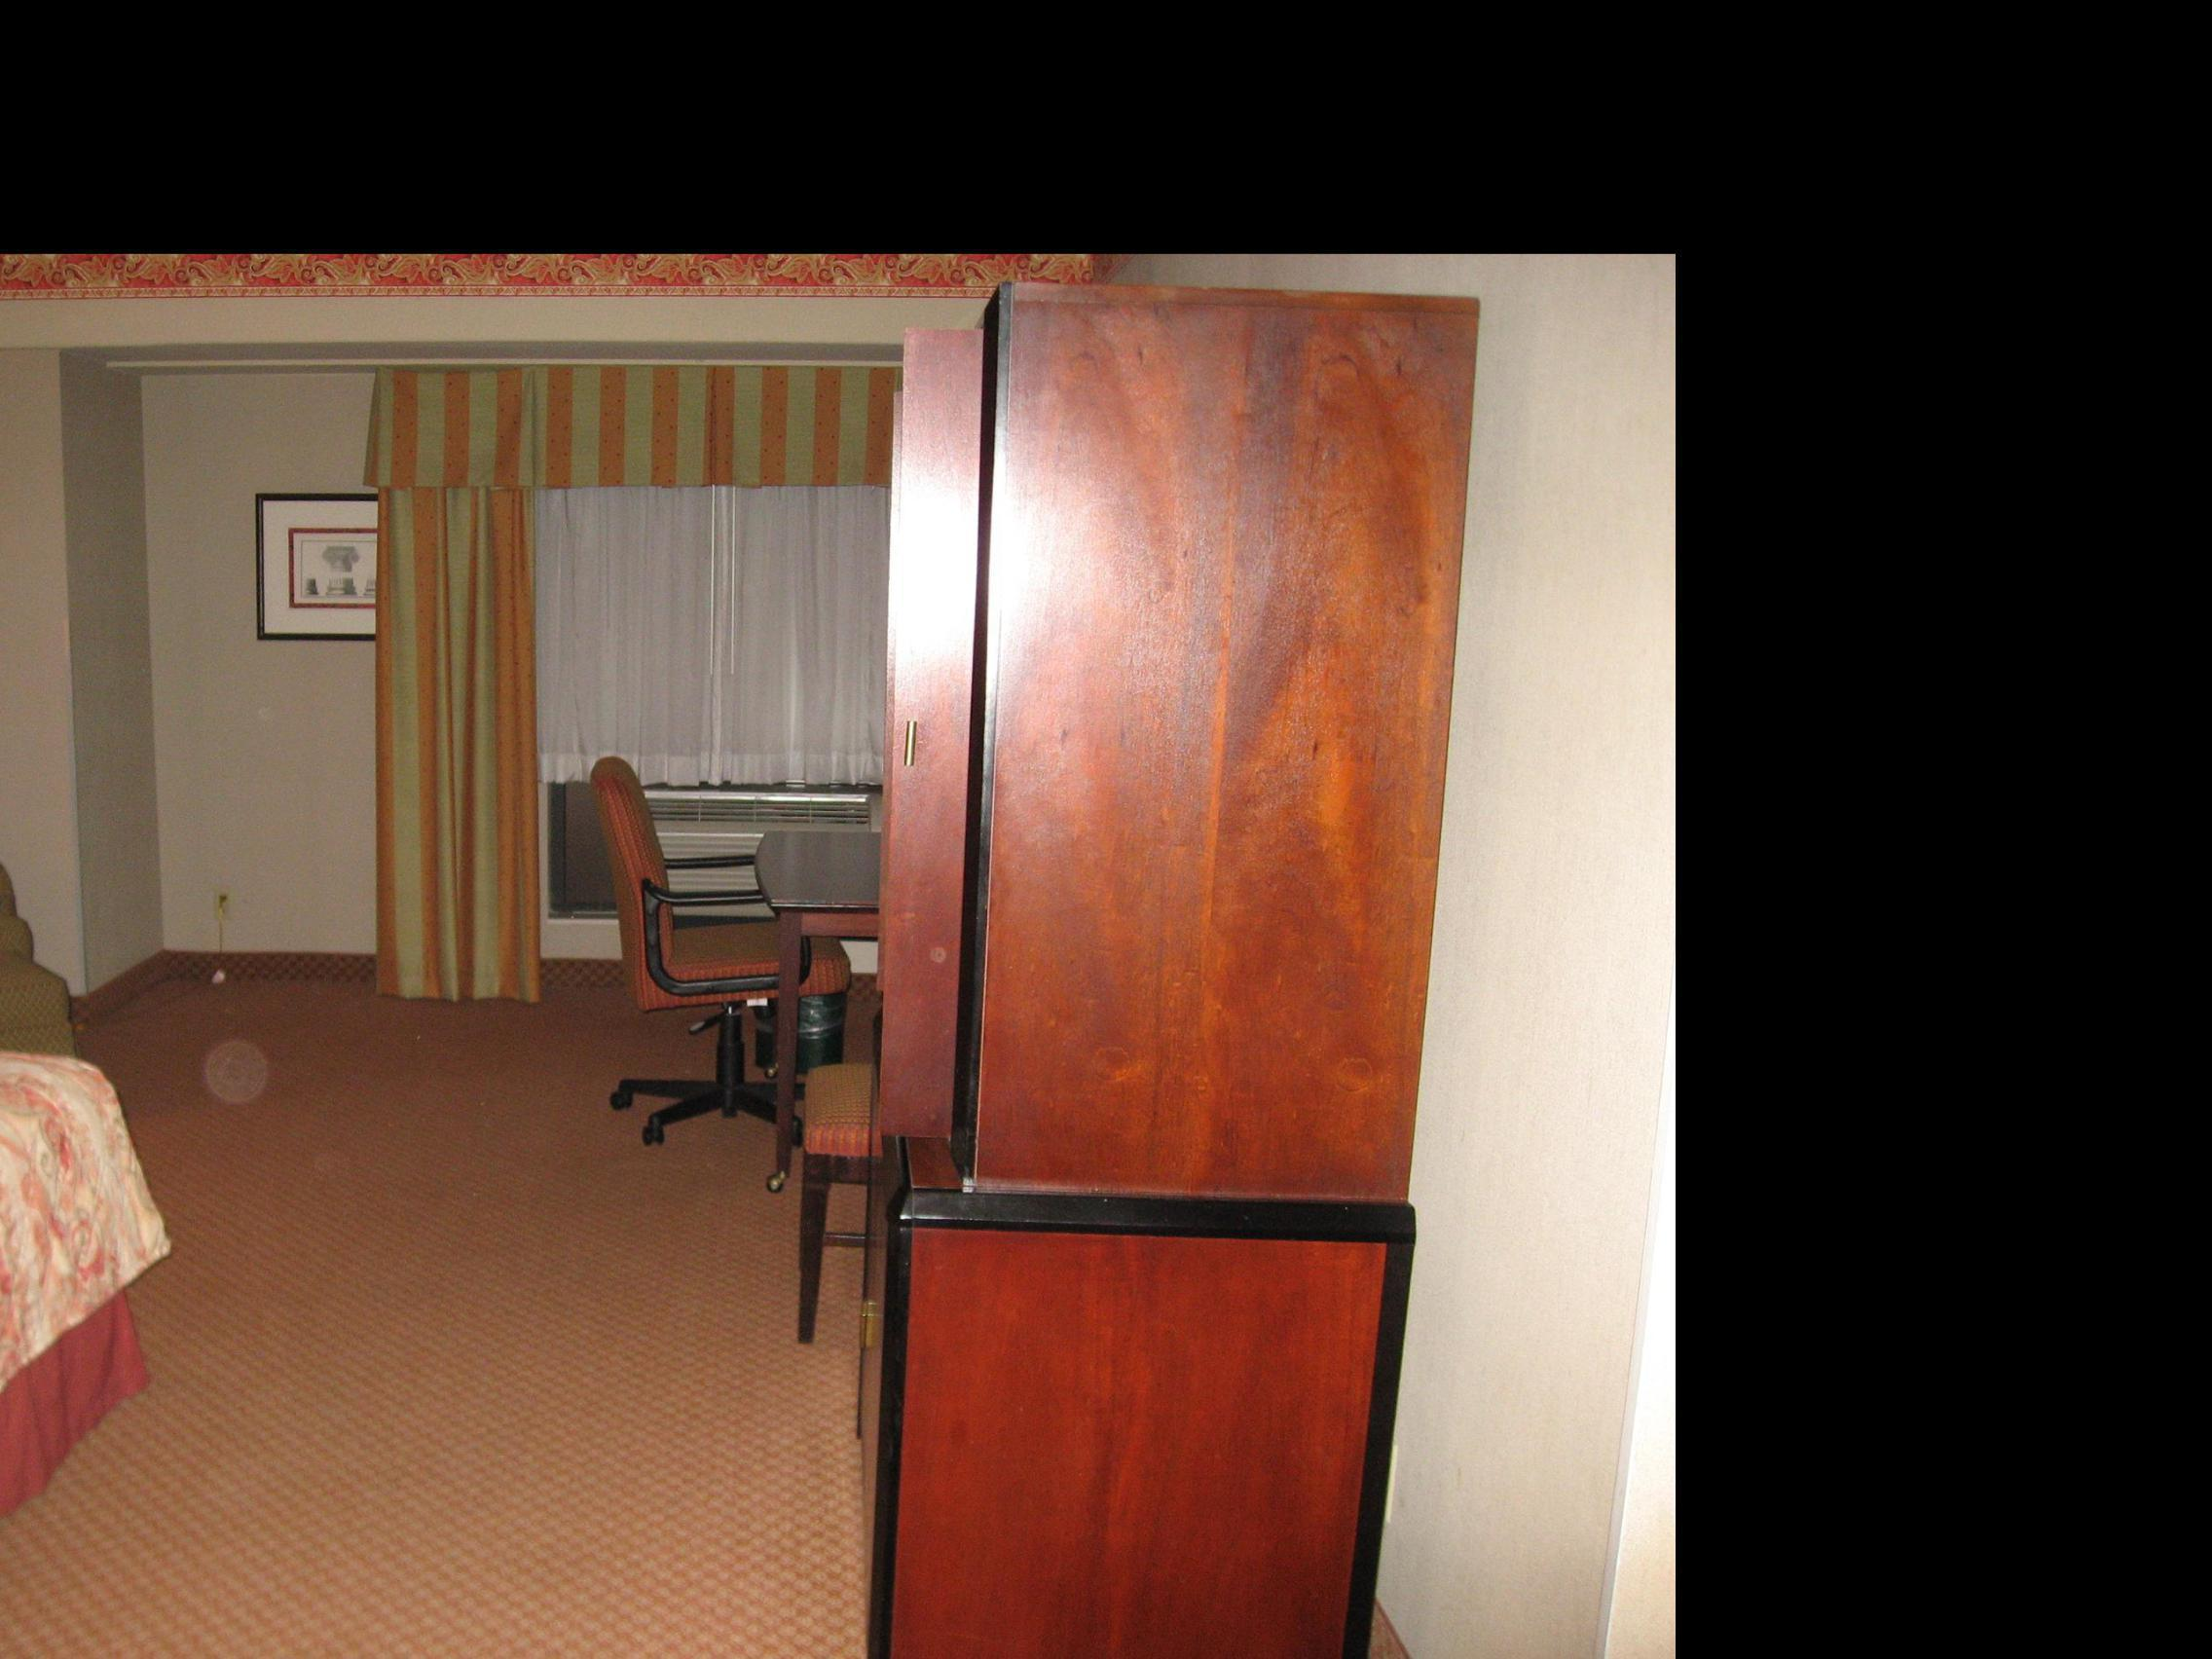Armario: (897, 333, 1364, 1659)
Bote de Basura: (766, 925, 857, 1086)
